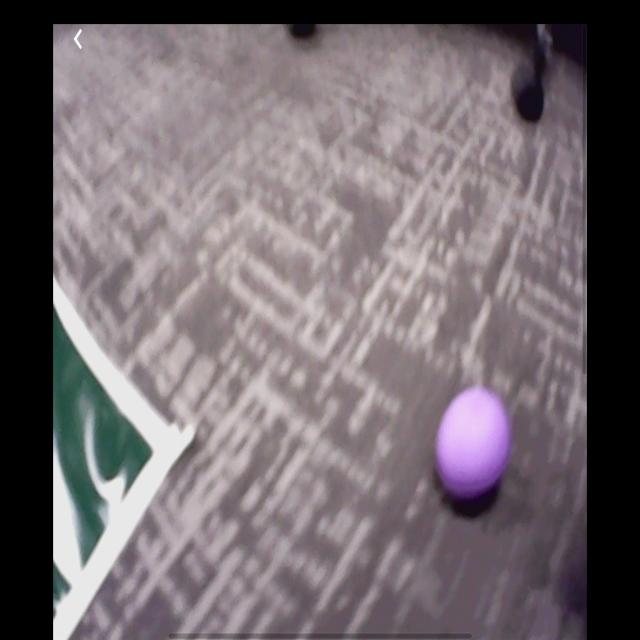ball: (435, 390, 514, 505)
